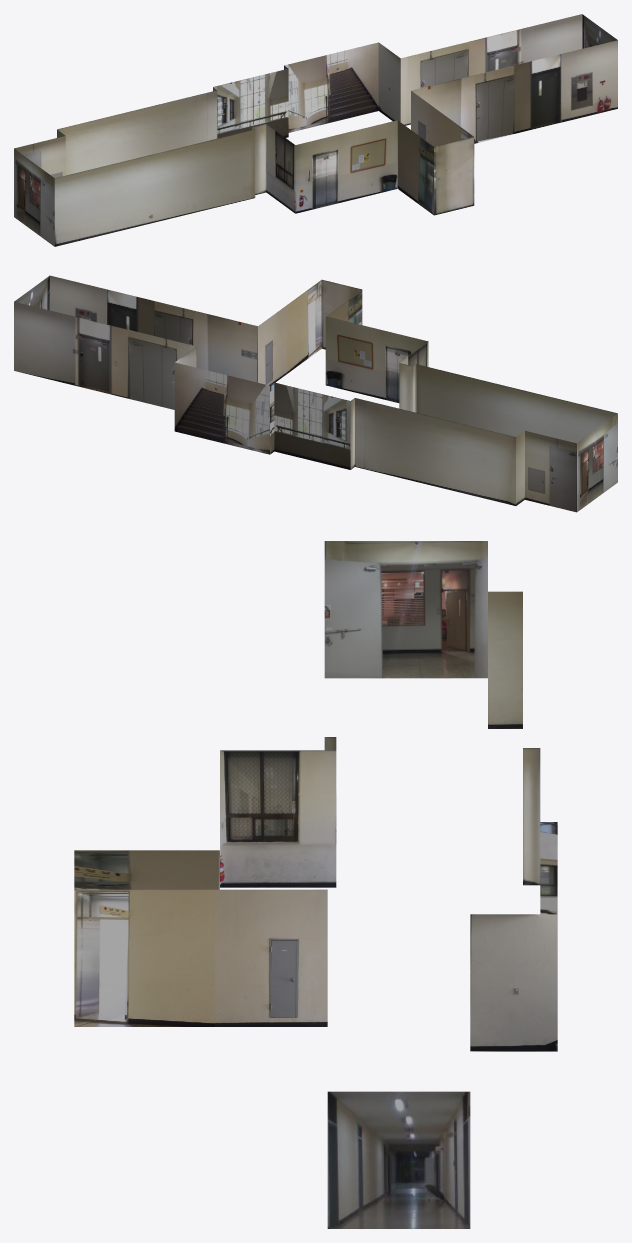
File: indoor.fbx
3 views of the same model, one above another, from view 1: azimuth 30°, elevation 25°; view 2: azimuth 150°, elevation 25°; view 3: azimuth 270°, elevation 25° (orthographic). The views are drawn at different scales.
Parts seen in each view (by area): view 1: surface18, surface11, surface3, surface15, surface9, surface7, surface5, surface0, surface13, surface14, surface16, surface12 (+4 smaller); view 2: surface9, surface3, surface11, surface18, surface7, surface15, surface5, surface12, surface1, surface0, surface13, surface17 (+6 smaller); view 3: surface12, surface0, surface10, surface16, surface8, surface14, surface2, surface4, surface6.
Boxes of the visible parts, x1,y1,x2,y2 form: surface18: (54, 129, 255, 246); surface11: (411, 40, 617, 143); surface3: (57, 90, 217, 175); surface15: (295, 120, 397, 213); surface9: (400, 14, 582, 125); surface7: (284, 42, 378, 132); surface5: (213, 68, 288, 138); surface0: (14, 148, 54, 246); surface13: (434, 137, 474, 215); surface14: (397, 120, 433, 214); surface16: (266, 124, 295, 213); surface12: (411, 91, 473, 146); surface9: (14, 302, 196, 409); surface3: (355, 398, 515, 505); surface11: (50, 275, 257, 382); surface18: (416, 364, 617, 443); surface7: (174, 362, 269, 454); surface15: (325, 316, 428, 402); surface5: (274, 382, 350, 469); surface12: (258, 280, 321, 385); surface1: (525, 431, 576, 512); surface0: (577, 413, 617, 511); surface13: (321, 279, 361, 349); surface17: (399, 363, 416, 412); surface12: (74, 889, 327, 1026); surface0: (324, 541, 487, 678); surface10: (327, 1091, 470, 1228); surface16: (220, 750, 336, 887); surface8: (470, 914, 557, 1051); surface14: (74, 850, 219, 889); surface2: (488, 591, 522, 728); surface4: (523, 748, 540, 885); surface6: (540, 822, 557, 914).
Size of the model in its own units: 87992 by 10236 by 32677.
18 materials, 18 textured.
